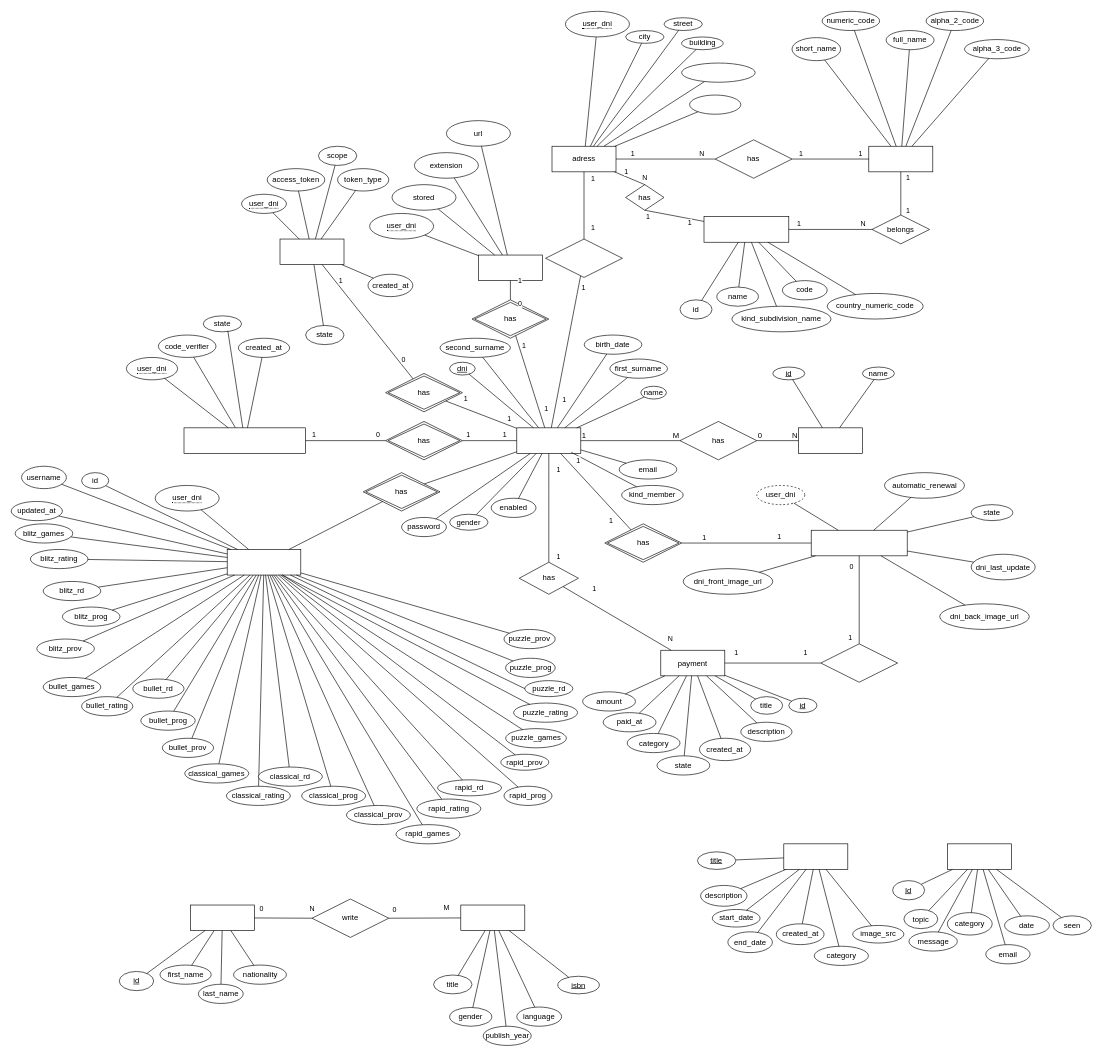
Image size: 1103x1057. Some labels were removed from this diagram. Here are the shapes that lost their labels. From the top down, the box of each, then its label:
(681, 62, 755, 82): apartment_number
(689, 94, 741, 114): postal_code
(868, 146, 933, 172): country
(703, 216, 789, 242): country_subdivision
(279, 238, 344, 265): lichess_auth
(478, 254, 542, 281): ProfileImage
(545, 238, 622, 277): Relationship
(183, 427, 306, 453): oauth_authorization_requests
(516, 427, 581, 453): user
(798, 427, 862, 453): role
(227, 549, 301, 575): lichess_profile
(811, 530, 907, 556): user_federative_data
(820, 643, 898, 682): contains
(783, 843, 848, 869): activities
(947, 843, 1011, 869): chess_questions
(190, 904, 254, 931): author
(460, 904, 525, 931): book
